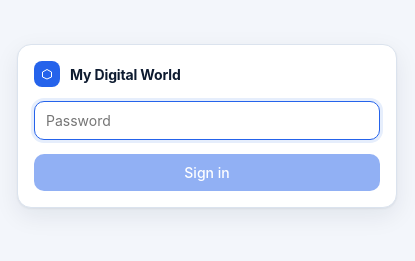
Login › shows an error for a wrong password and keeps the user on the form
The image size is (415, 261).
Expected: the button "Sign in" is disabled, [34,154,380,191]
In the password field with placeholder "Password": (207, 120) [34,101,380,140], type "nope"
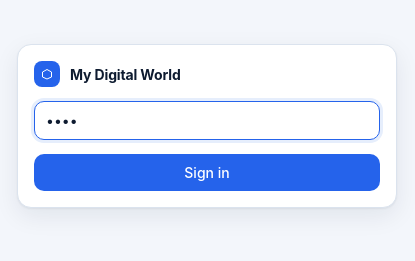
Click the button "Sign in": (207, 172) [34,154,380,191]
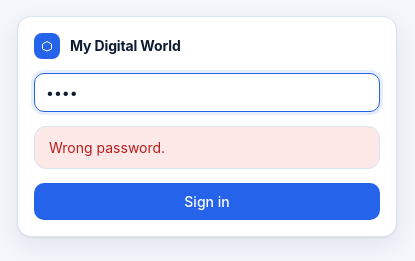
Expected: the message shows "Wrong password", [49,138,165,156]
